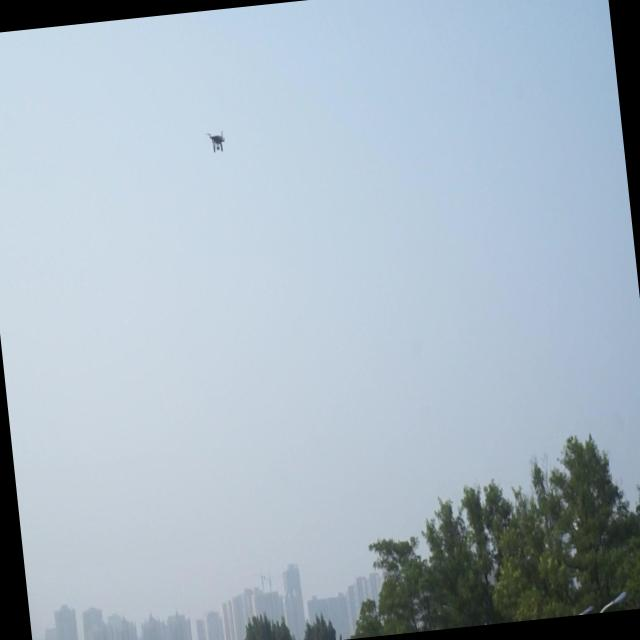drone: (206, 126, 230, 158)
